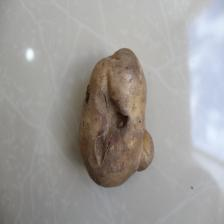Damaged potato: (74, 47, 156, 188)
